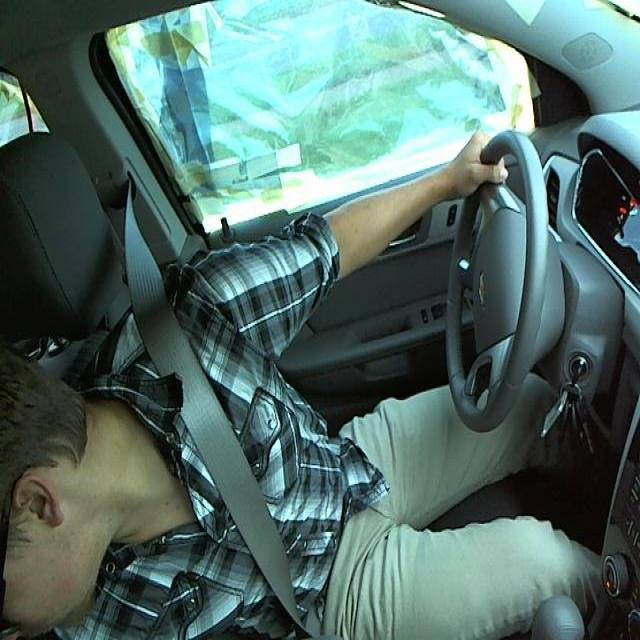seatbelt: (130, 304, 331, 632)
